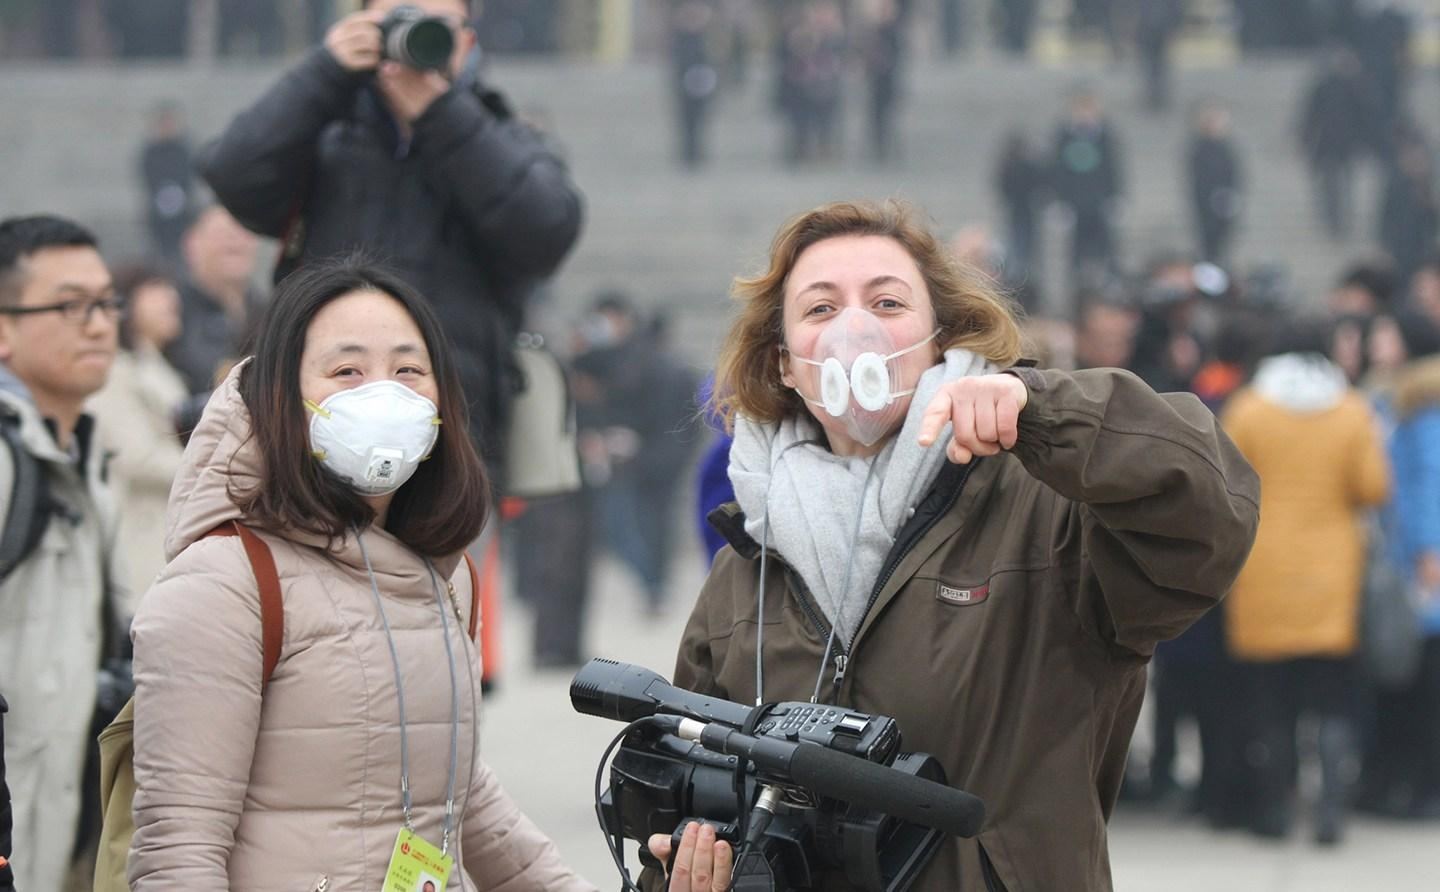Mask: (303, 338, 456, 493)
